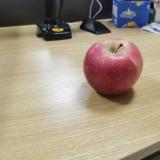apple: (84, 38, 143, 99)
